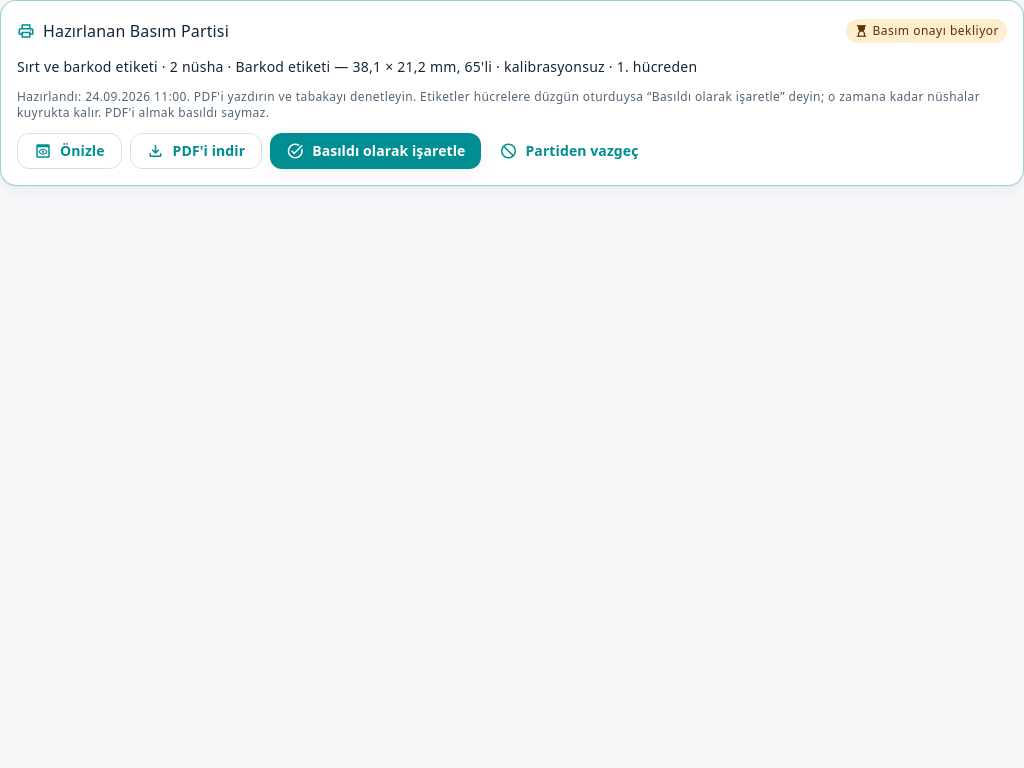
BasimPartisiKarti › “Basıldı olarak işaretle” onaydan geçer; vazgeçilirse istek gitmez
Click the button "Basıldı olarak işaretle" at (376, 151), box x1=270 y1=133 x2=481 y2=169
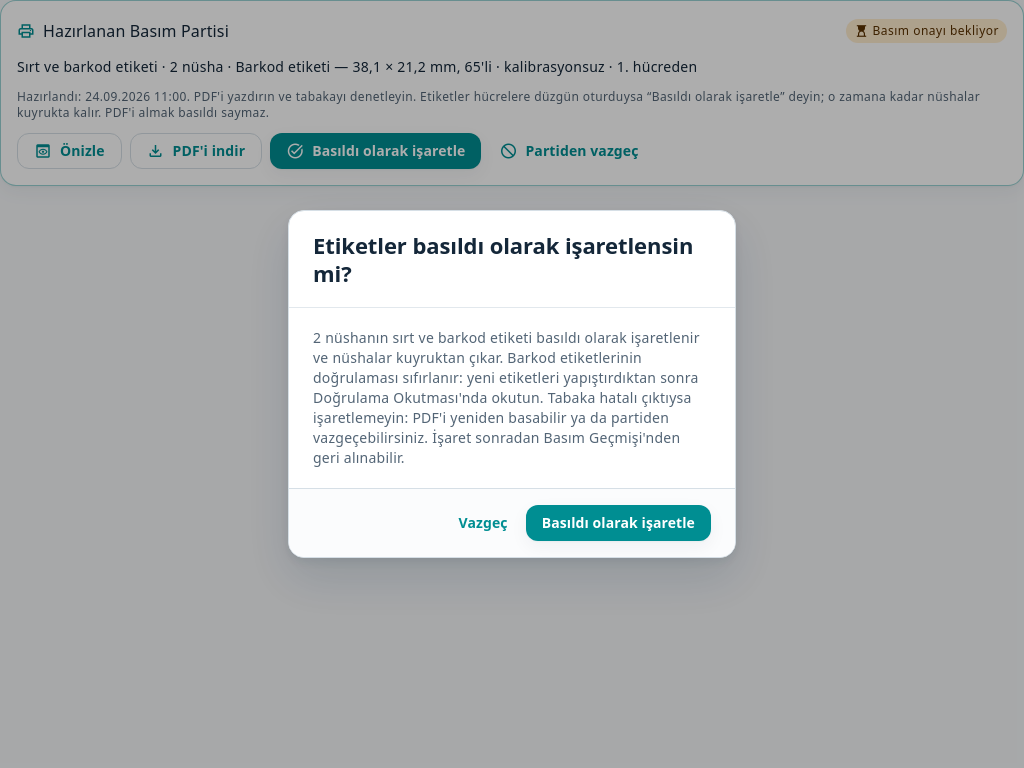
Result: the text "2 nüshanın sırt ve barkod etiketi" is shown at x1=313 y1=328 x2=700 y2=467
Click the button "Vazgeç" at (483, 523), box x1=449 y1=505 x2=518 y2=541
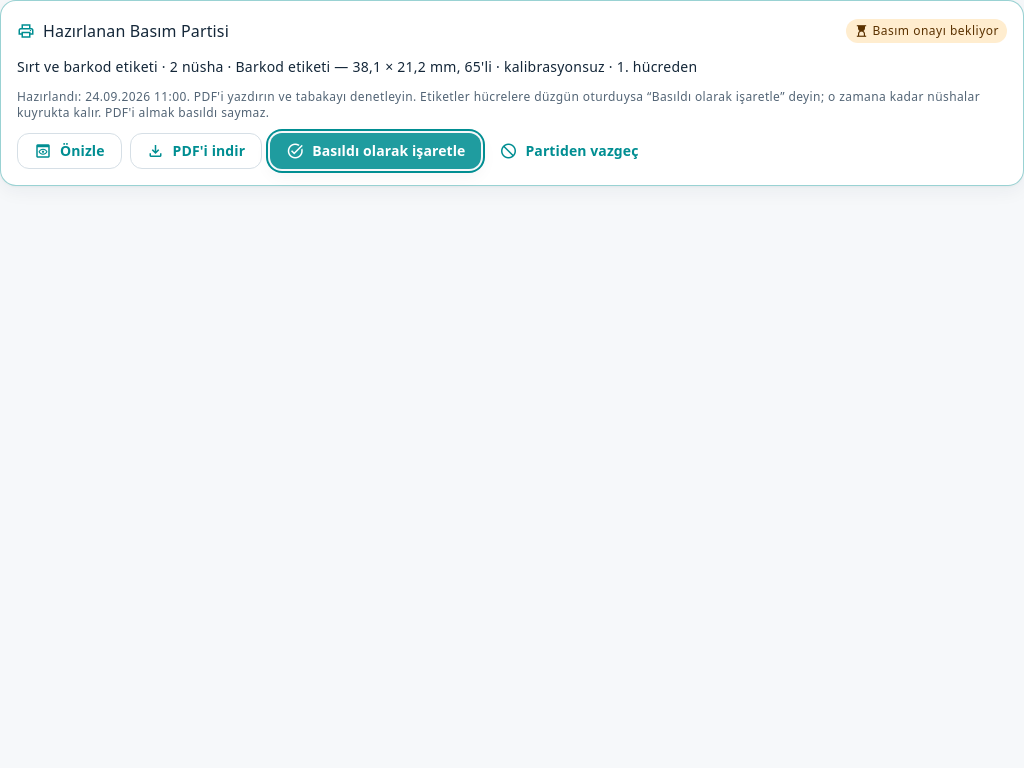
Click the button "Basıldı olarak işaretle" at (376, 151), box x1=270 y1=133 x2=481 y2=169
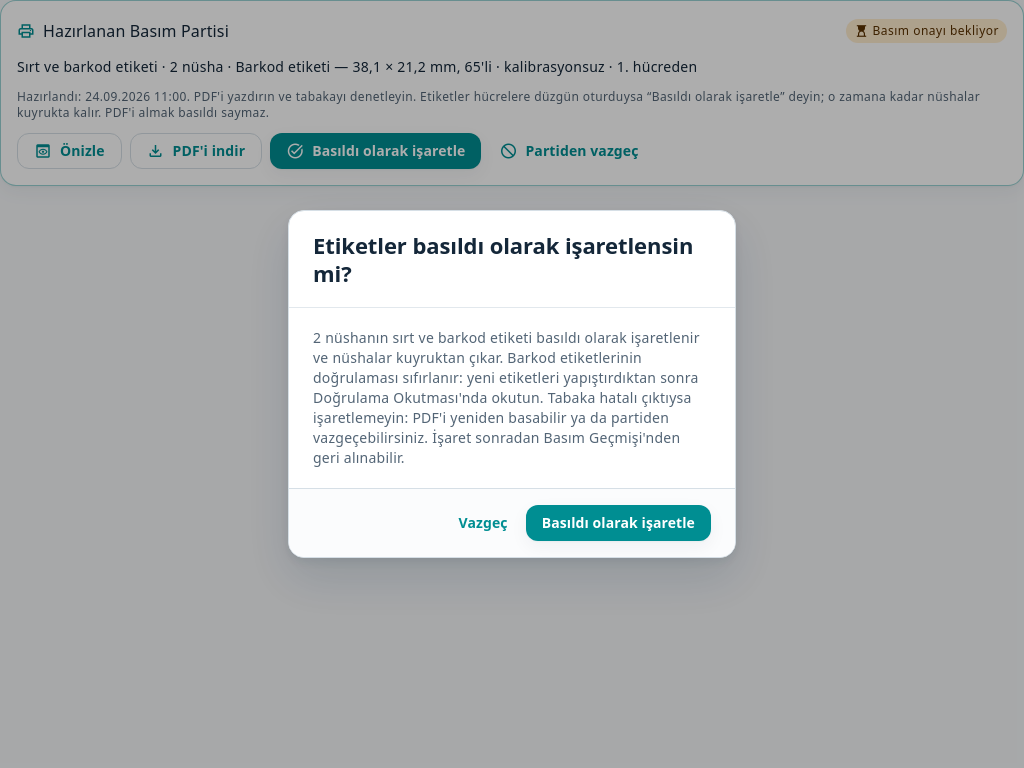
Click the button "Basıldı olarak işaretle" at (618, 523), box x1=526 y1=505 x2=711 y2=541
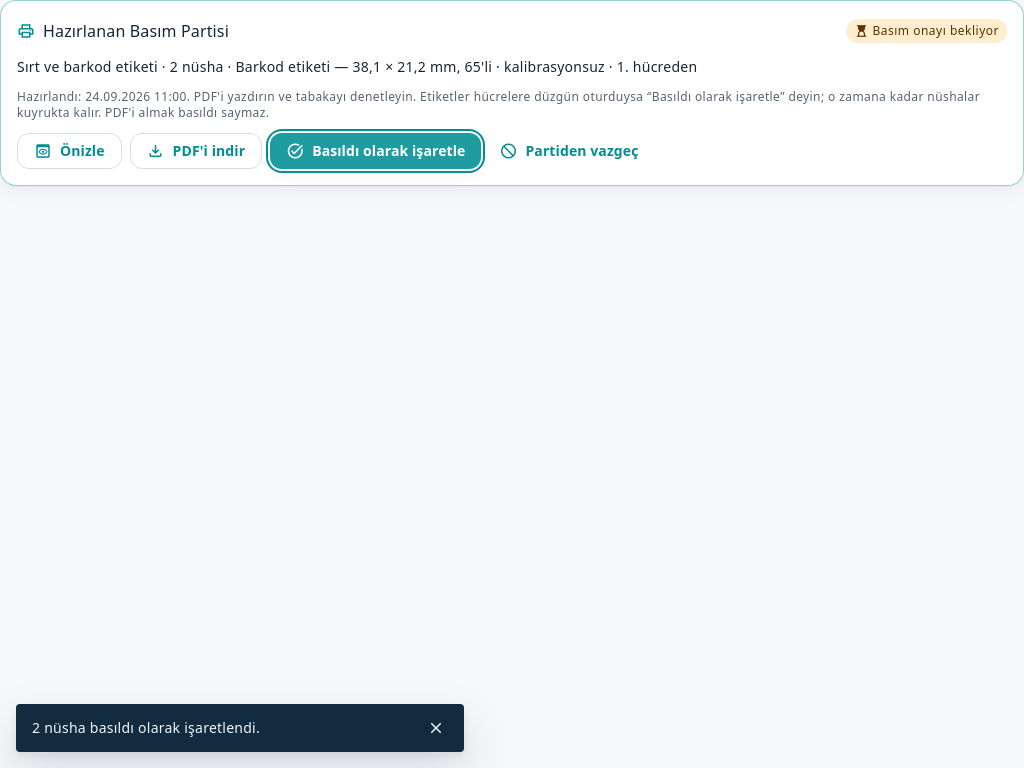
Result: the text "2 nüsha basıldı olarak işaretlendi." is shown at x1=32 y1=718 x2=260 y2=737
